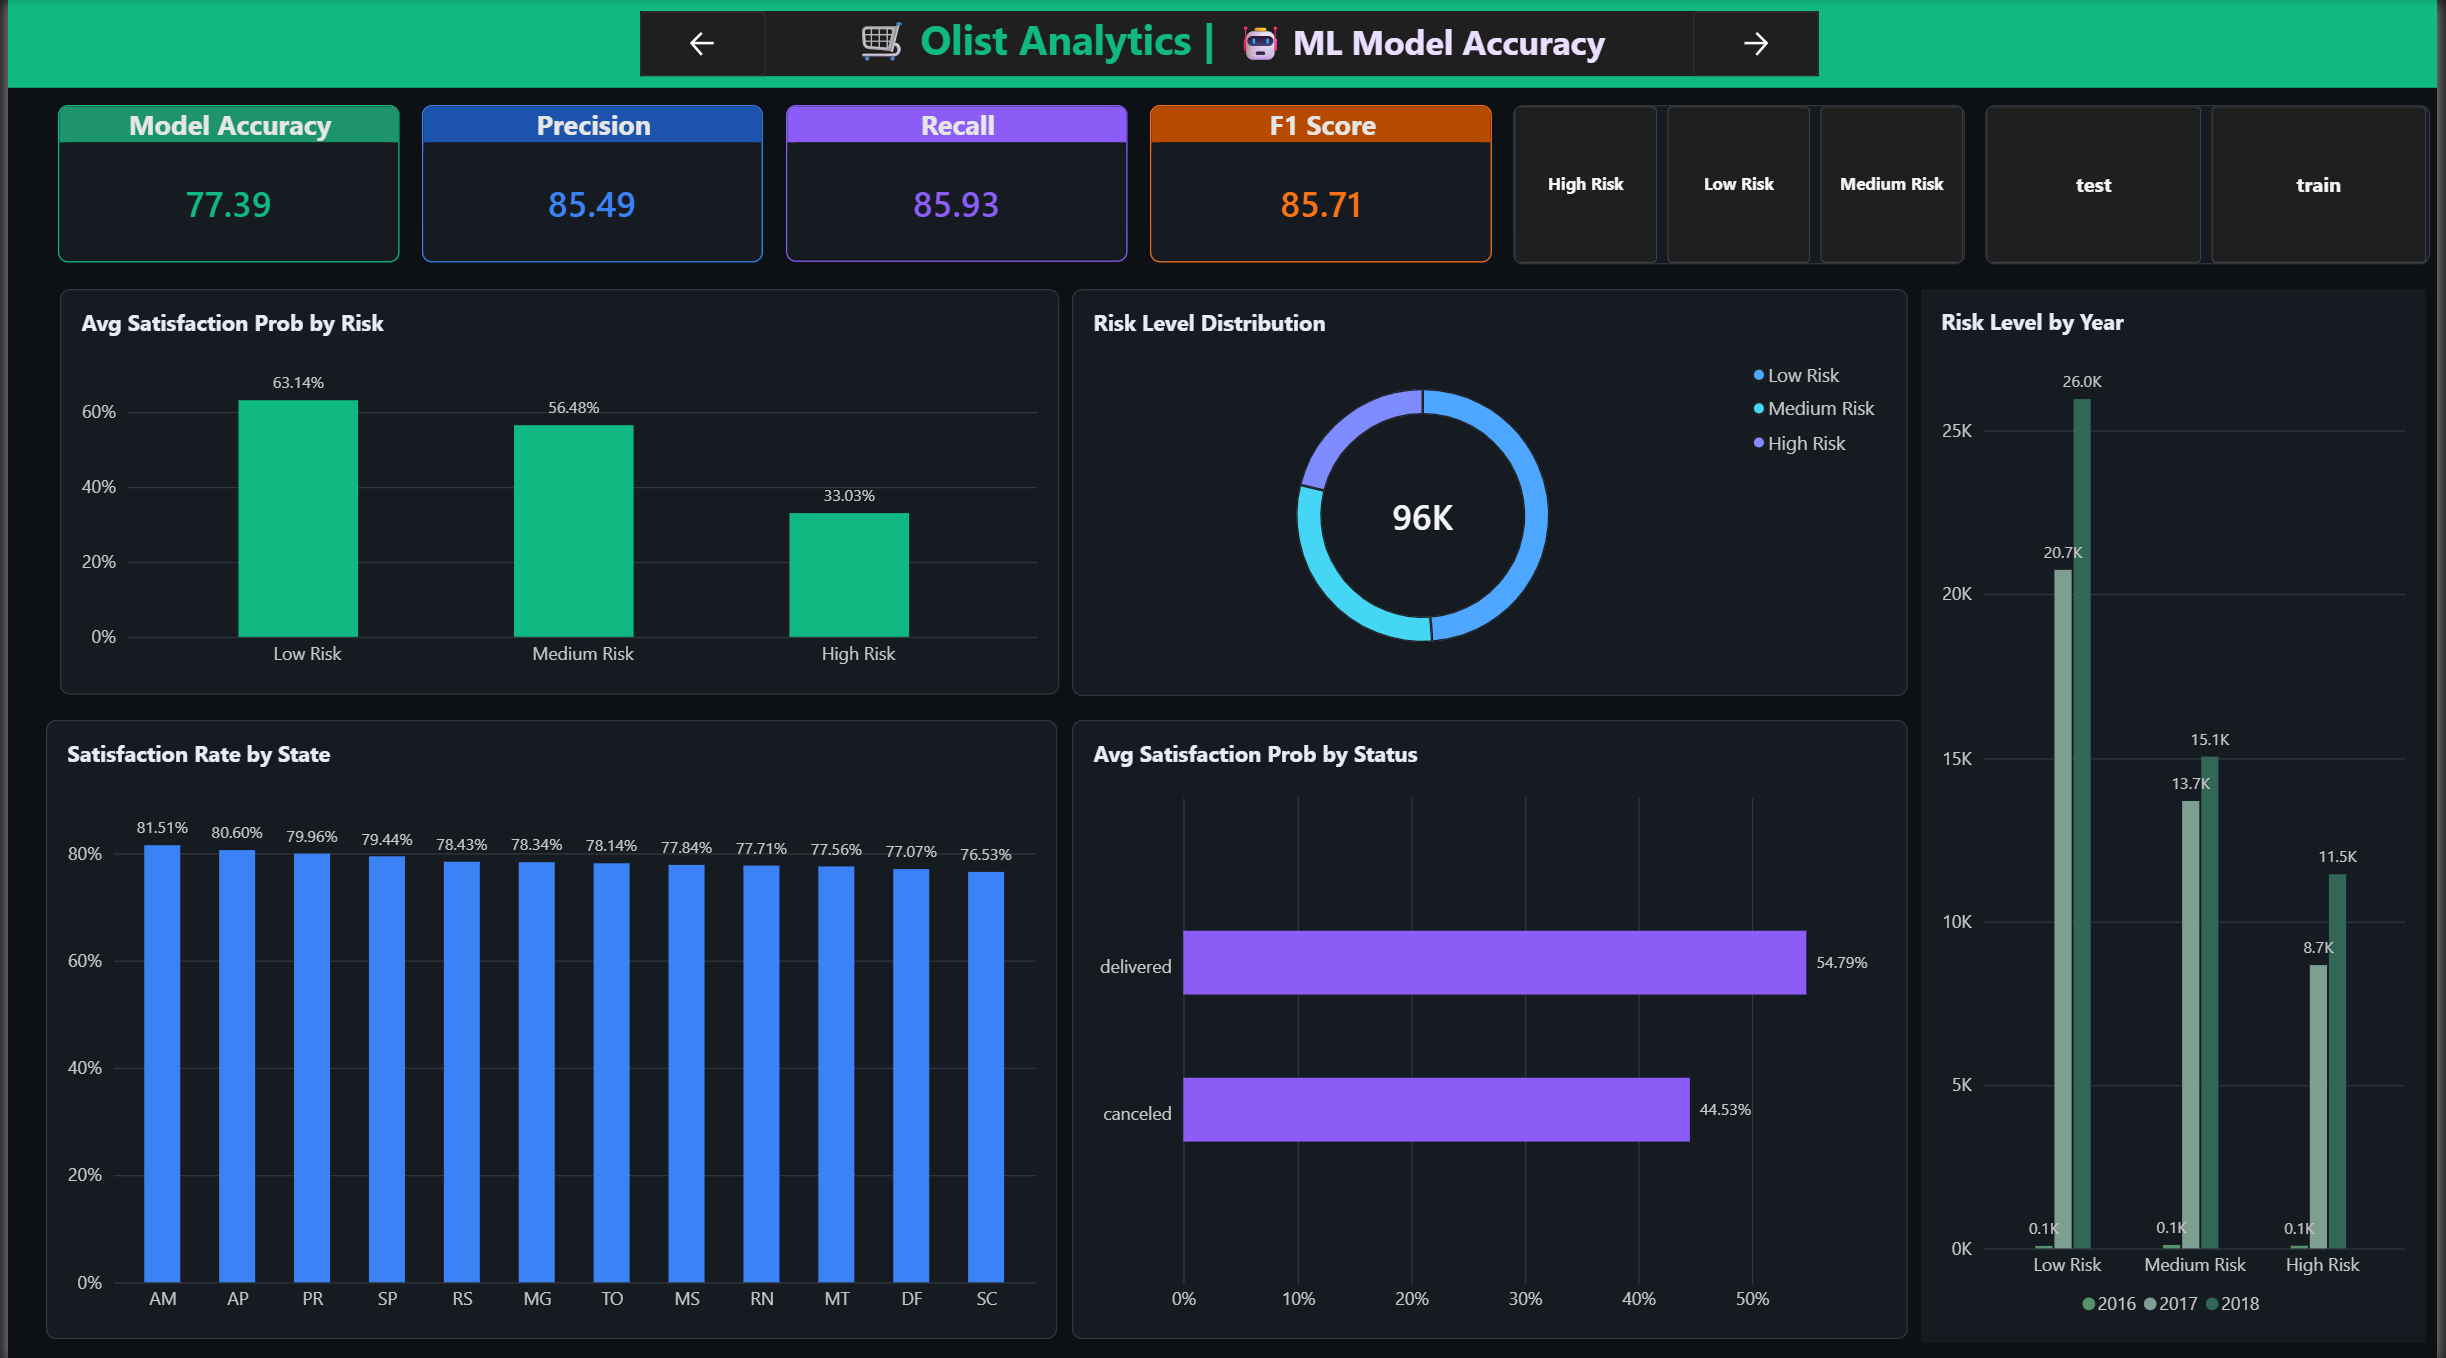

The page's visual inventory and layout, read from the dashboard file:
{"tool":"powerbi","page":{"name":"ML Model Accuracy","canvas":[1920,1080],"ordinal":2},"visuals":[{"type":"textbox","box":[30,230,420,320],"z":2000},{"type":"clusteredColumnChart","title":"📊 Avg Satisfaction Prob by Risk","fields":{"Category":["fact_predictions.risk_level"],"Y":["fact_predictions.satisfaction_probability"]},"box":[460,230,660,320],"z":2000},{"type":"donutChart","title":"🔴 Risk Level Distribution","fields":{"Category":["fact_predictions.risk_level"],"Y":["fact_predictions.Model Accuracy"]},"box":[1130,230,390,320],"z":2000},{"type":"clusteredColumnChart","title":"📍 Satisfaction Rate by State","fields":{"Category":["fact_orders.customer_state"],"Y":["fact_orders.Satisfaction Rate"]},"box":[30,570,800,490],"z":2000},{"type":"barChart","title":"📈 Avg Satisfaction Prob by Status","fields":{"Category":["fact_orders.order_status"],"Y":["fact_predictions.satisfaction_probability"]},"box":[840,570,660,490],"z":2000},{"type":"clusteredColumnChart","title":"📆 Risk Level by Year","fields":{"Category":["fact_predictions.risk_level"],"Y":["fact_orders.Total Orders"],"Series":["fact_orders.purchase_year"]},"box":[1510,570,400,490],"z":2000},{"type":"cardVisual","title":"🎯 Accuracy","fields":{"Data":["fact_predictions.Model Accuracy"]},"box":[30,85,260,125],"z":5000},{"type":"cardVisual","title":"🔍 Precision","fields":{"Data":["fact_predictions.Model Precision"]},"box":[300,85,260,125],"z":5000},{"type":"cardVisual","title":"📡 Recall","fields":{"Data":["fact_predictions.Model Recall"]},"box":[570,85,260,125],"z":5000},{"type":"cardVisual","title":"⚖️ F1 Score","fields":{"Data":["fact_predictions.F1 Score"]},"box":[840,85,260,125],"z":5000},{"type":"advancedSlicerVisual","fields":{"Values":["fact_predictions.risk_level"]},"box":[1500,80,200,130],"z":7000},{"type":"advancedSlicerVisual","fields":{"Values":["fact_predictions.split"]},"box":[1710,80,200,130],"z":7000},{"type":"textbox","box":[32,10,1100,52],"z":8500},{"type":"shape","box":[0,0,1920,70],"z":9000}]}

Visuals, with their boxes in screenshot pixels (x1, y1, x2, y2), scaled from the page's 1920x1080 canvas onto the 2446x1358 screenshot:
textbox: box(38, 289, 573, 692)
"📊 Avg Satisfaction Prob by Risk" clusteredColumnChart: box(586, 289, 1427, 692)
"🔴 Risk Level Distribution" donutChart: box(1440, 289, 1936, 692)
"📍 Satisfaction Rate by State" clusteredColumnChart: box(38, 717, 1057, 1333)
"📈 Avg Satisfaction Prob by Status" barChart: box(1070, 717, 1911, 1333)
"📆 Risk Level by Year" clusteredColumnChart: box(1924, 717, 2433, 1333)
"🎯 Accuracy" cardVisual: box(38, 107, 369, 264)
"🔍 Precision" cardVisual: box(382, 107, 713, 264)
"📡 Recall" cardVisual: box(726, 107, 1057, 264)
"⚖️ F1 Score" cardVisual: box(1070, 107, 1401, 264)
advancedSlicerVisual - fact_predictions.risk_level: box(1911, 101, 2166, 264)
advancedSlicerVisual - fact_predictions.split: box(2178, 101, 2433, 264)
textbox: box(41, 13, 1442, 78)
shape: box(0, 0, 2445, 88)
